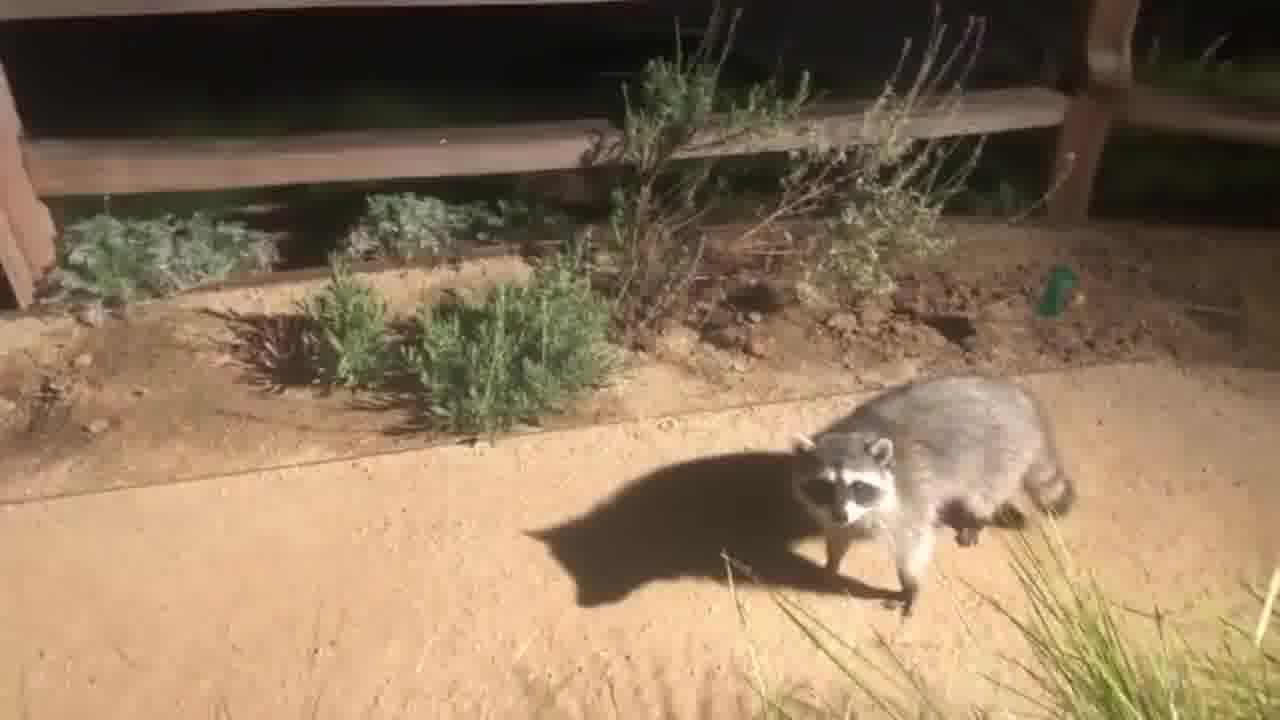raccoon: (781, 359, 1085, 624)
